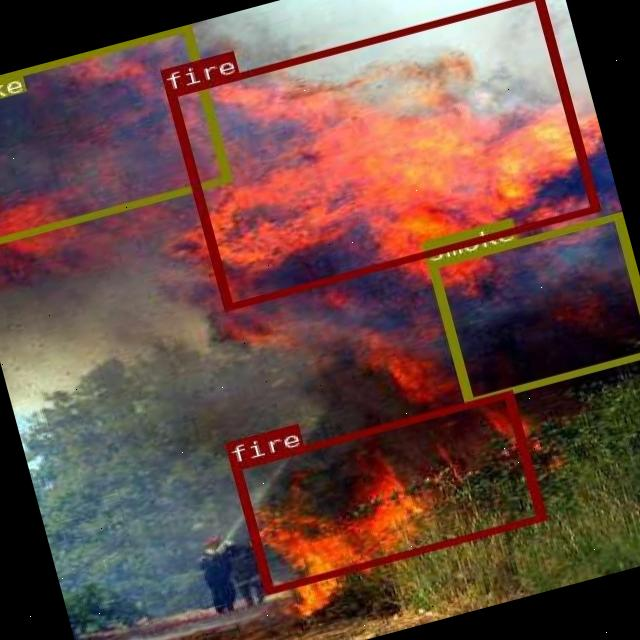fire: (165, 0, 598, 311), (229, 390, 543, 594)
smoke: (0, 24, 230, 249), (425, 211, 640, 404)
